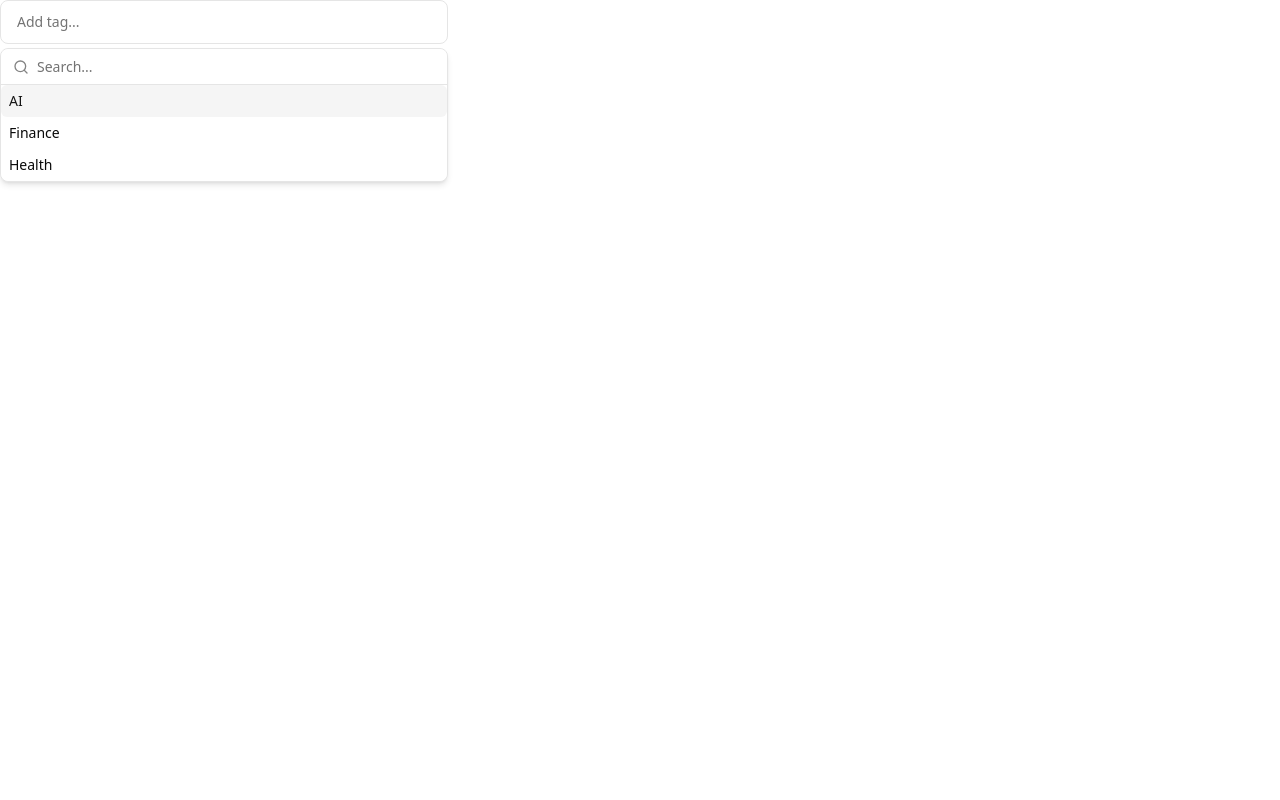
Scenario: TagSelector › filters options on typing
The image size is (1280, 800).
Type "Fin" into the field with test id "tag-input" at (224, 22), box [13,12,435,32]
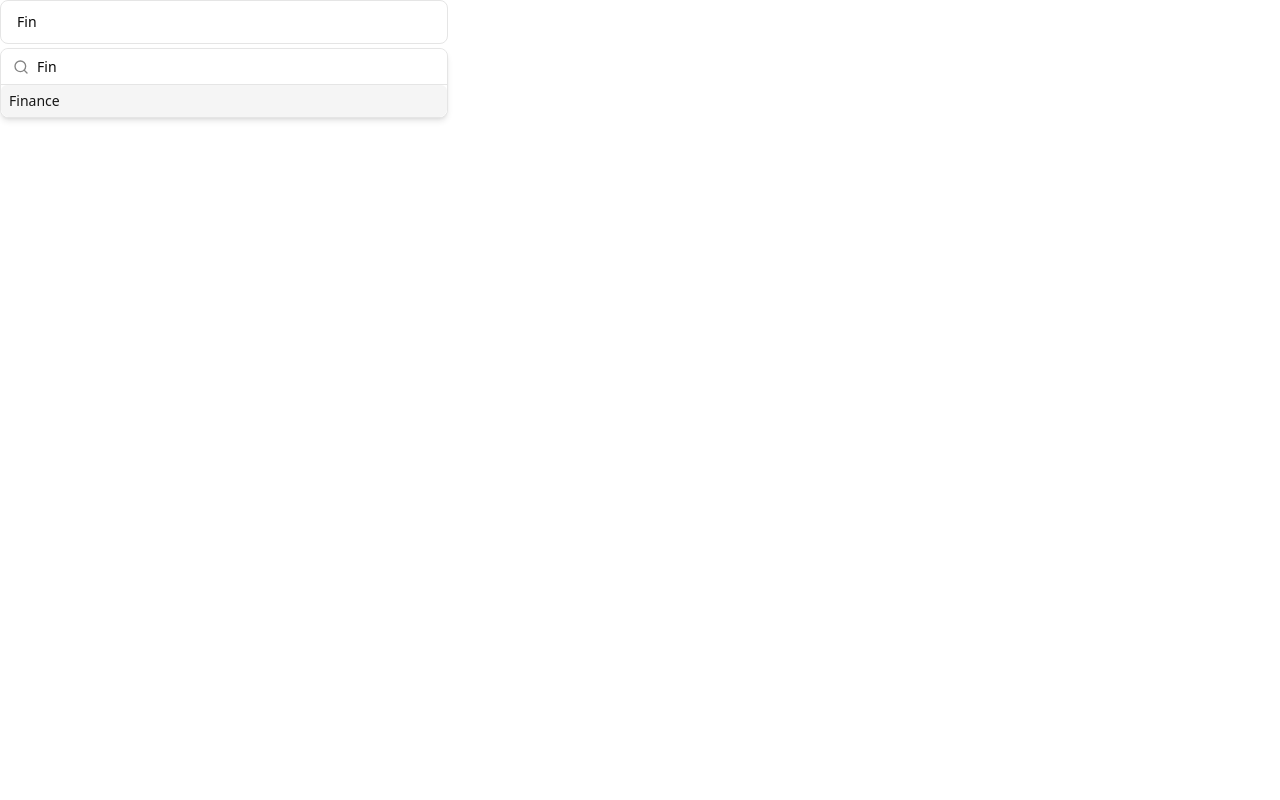
Expected: the option "Finance" is shown, [1,85,447,117]
Result: the option "AI" is gone
